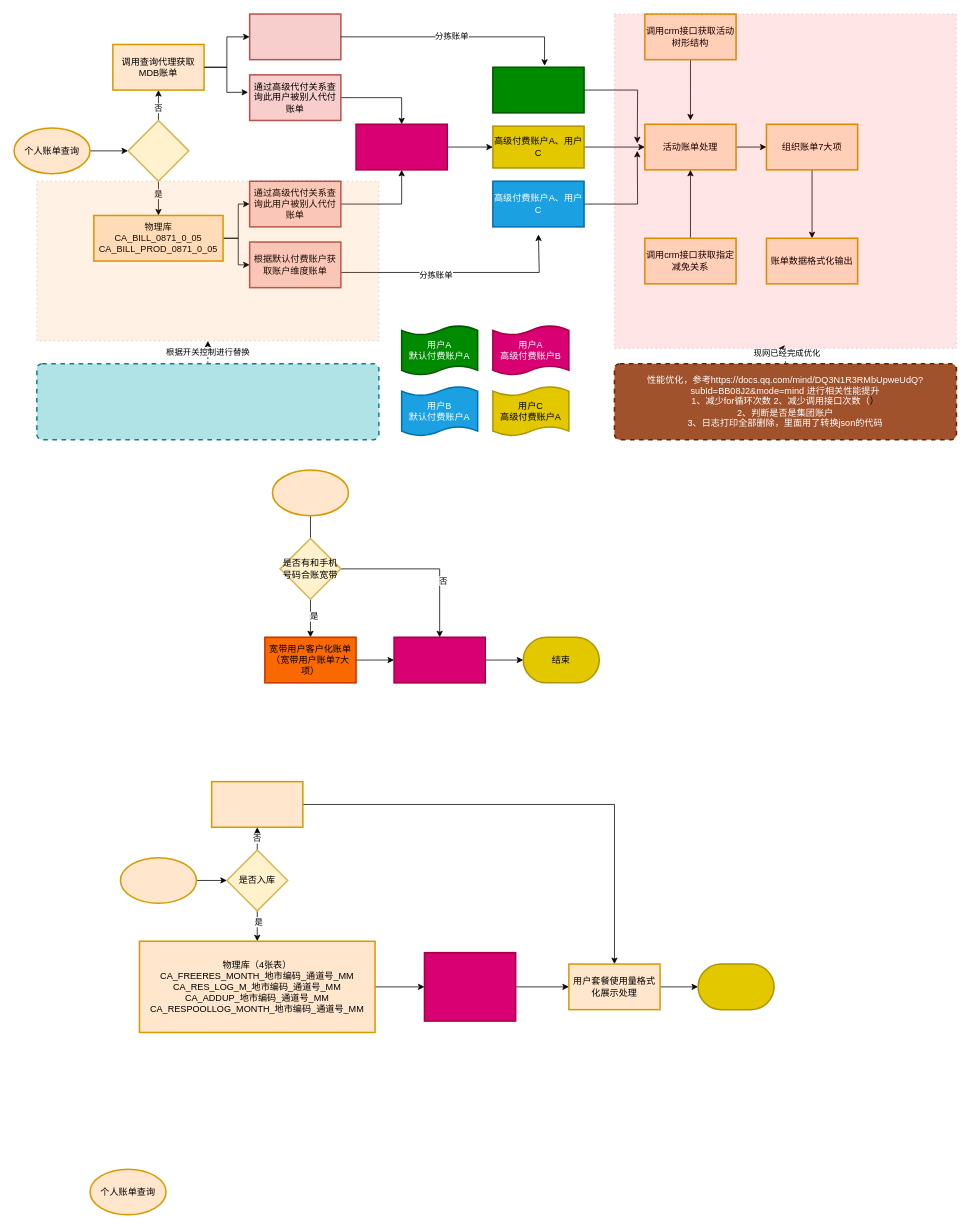
The diagram is 970 pixels wide and 1228 high, and some of its shapes have lost their labels. Here are the shapes that lost their labels. From the top down, the centre of each, then its label:
At pixel 295 36: "根据默认付费账户获取账户维度账单 账户A".
At pixel 538 89: "获取用户默认付费账单 用户A、账户A".
At pixel 158 150: "账单是否入库".
At pixel 401 146: "用户A、高级付费账户B".
At pixel 207 401: "优化成从云详单获取数据 1、按照账户id、账期维度一次性查询出账户账单数据 2、根据用户id、账期维度一次查询出用户账单".
At pixel 310 492: "中国移动app传入手机号码".
At pixel 439 659: "个人用户客户化账单（个人用户账单7大项）".
At pixel 257 804: "调用查询代理获取内存库资源".
At pixel 158 880: "用户套餐使用量查询".
At pixel 469 986: "替换成云祥单查询、请求参数、响应参数保持和物理库查询一致".
At pixel 735 986: "用户套餐使用量格式输出".
